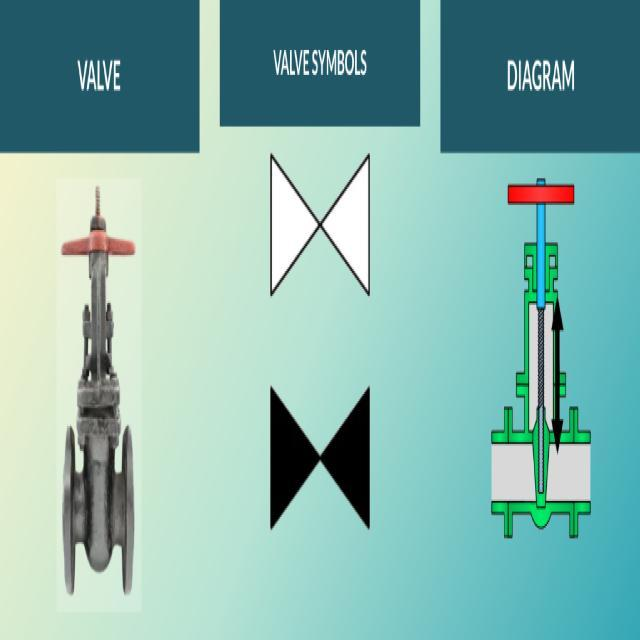Closed Gate Valve: (255, 356, 387, 566)
Gate Valve: (261, 142, 379, 306)
